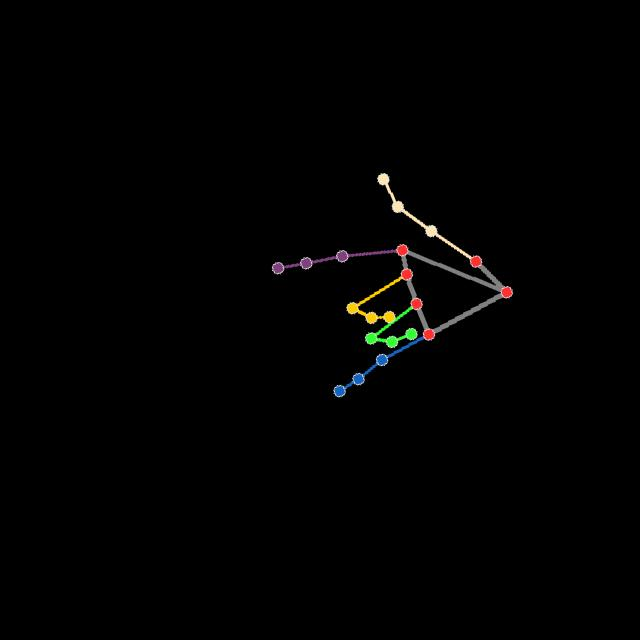spiderman: (269, 170, 515, 396)
